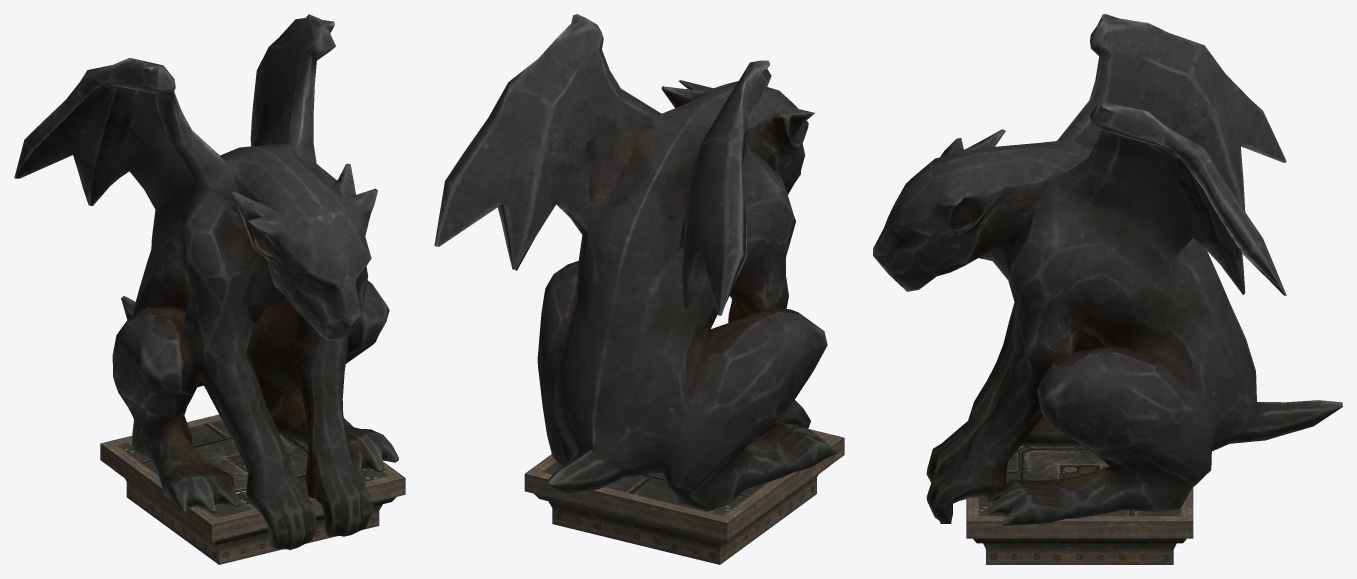
3 renders of one model, left to right at view 1: azimuth 30°, elevation 25°; view 2: azimuth 150°, elevation 25°; view 3: azimuth 270°, elevation 25°, orthographic. The views are drawn at different scales.
Parts seen in each view (by area): view 1: SM_Gargoyle_02_v1_LOD0; view 2: SM_Gargoyle_02_v1_LOD0; view 3: SM_Gargoyle_02_v1_LOD0.
Part boxes in pixels (bbox=[...]): SM_Gargoyle_02_v1_LOD0: bbox=[14, 14, 405, 564]; SM_Gargoyle_02_v1_LOD0: bbox=[434, 14, 844, 564]; SM_Gargoyle_02_v1_LOD0: bbox=[873, 14, 1342, 564].
Size of the model in its own units: 1.77 by 2.73 by 2.5.
Materials: 2 (2 with a texture image).
